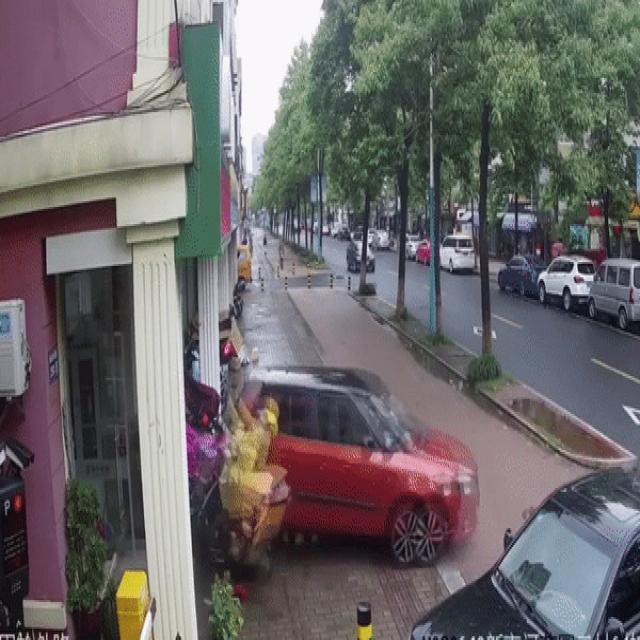multiple_accident: (176, 324, 487, 598)
